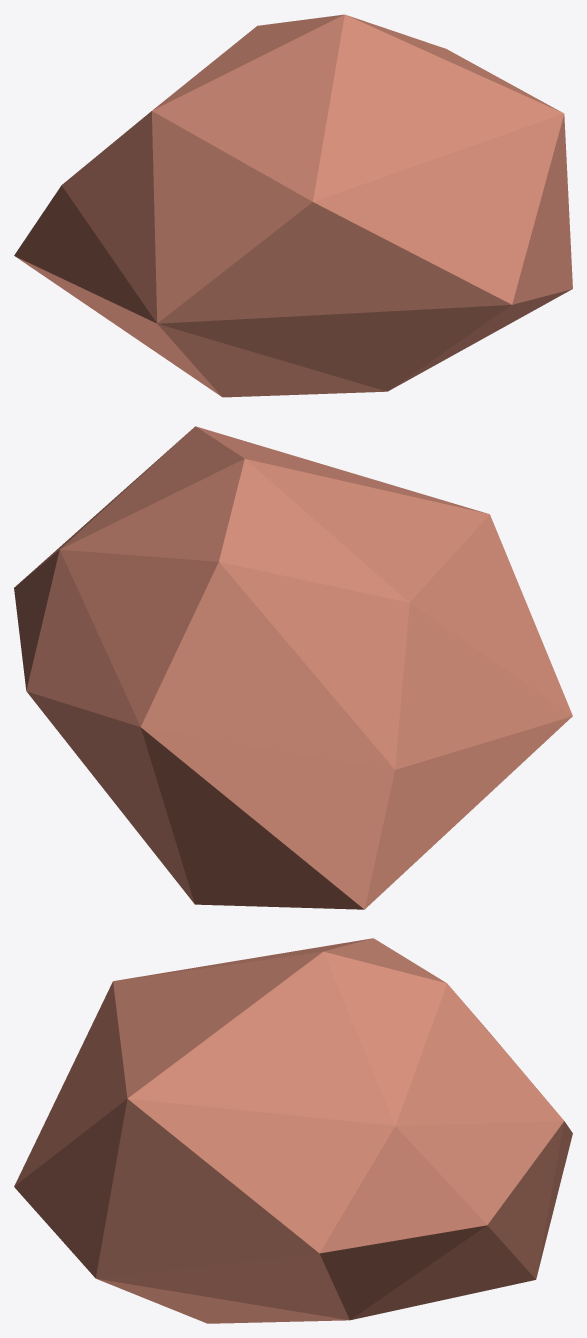
File: stone_006.fbx
3 renders of one model, top to bottom at view 1: azimuth 30°, elevation 25°; view 2: azimuth 150°, elevation 25°; view 3: azimuth 270°, elevation 25°, orthographic. The views are drawn at different scales.
Visible parts, largest first — view 1: stone_006; view 2: stone_006; view 3: stone_006.
Boxes of the visible parts, box(x1,y1,x2,y2) form: stone_006: box(14, 14, 572, 397); stone_006: box(14, 426, 572, 909); stone_006: box(14, 938, 572, 1323).
Size of the model in its own units: 98.34 by 94.64 by 75.99.
